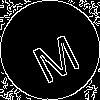M: (25, 25, 83, 85)
